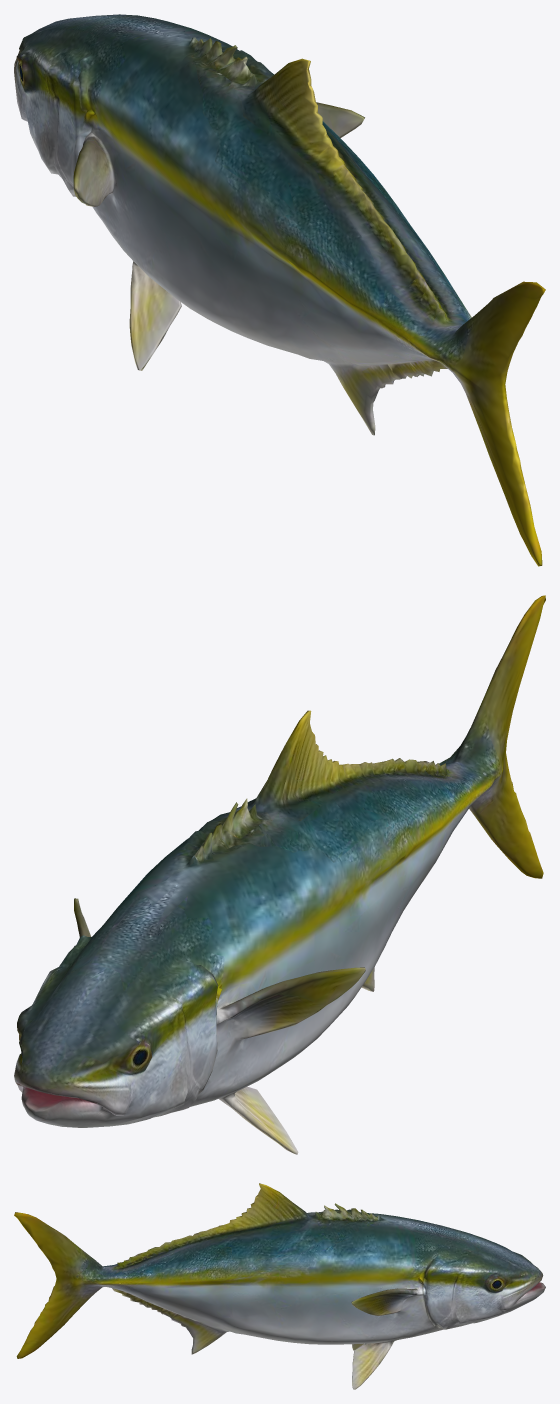
Rendered from yellowtail.glb.
3 renders of one model, top to bottom at view 1: azimuth 30°, elevation 25°; view 2: azimuth 150°, elevation 25°; view 3: azimuth 270°, elevation 25°, orthographic. The views are drawn at different scales.
Visible parts, largest first — view 1: tripo_node_a986991f-26d7-43d0-a973-0d9e8cbf6756; view 2: tripo_node_a986991f-26d7-43d0-a973-0d9e8cbf6756; view 3: tripo_node_a986991f-26d7-43d0-a973-0d9e8cbf6756.
Part boxes in pixels (x1,y1,x2,y2): tripo_node_a986991f-26d7-43d0-a973-0d9e8cbf6756: (14, 14, 545, 566); tripo_node_a986991f-26d7-43d0-a973-0d9e8cbf6756: (14, 595, 545, 1154); tripo_node_a986991f-26d7-43d0-a973-0d9e8cbf6756: (14, 1183, 545, 1389).
Bounding box in the file's own units: 0.3295 × 0.3872 × 1.
Materials: 1 (1 with a texture image).
